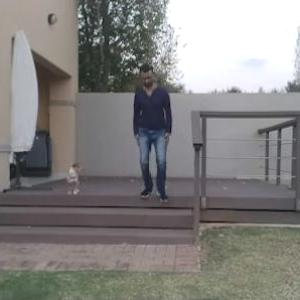follow: (139, 64, 174, 204)
